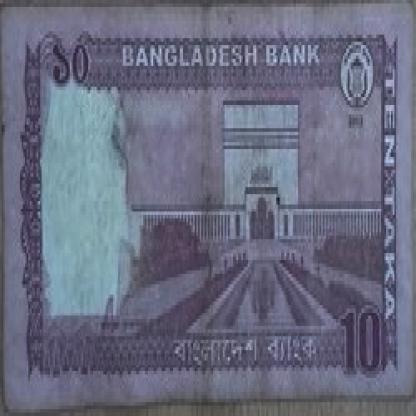Ten Taka: (47, 24, 103, 111), (333, 298, 384, 375), (344, 284, 348, 298)
